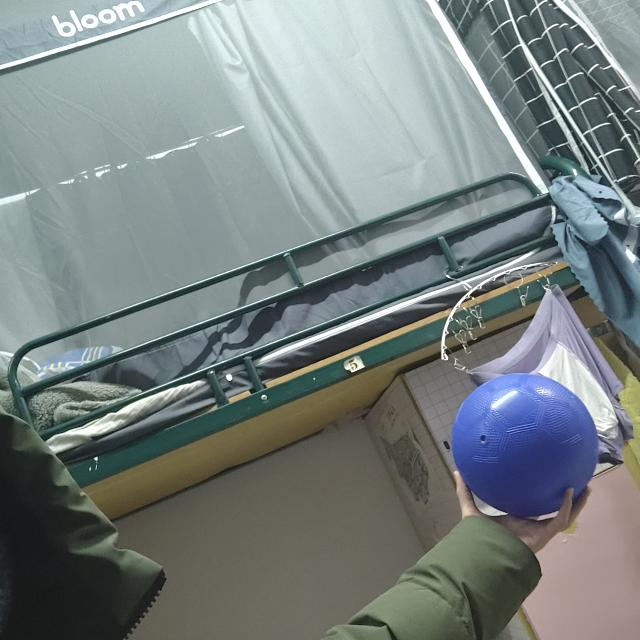B: (451, 370, 603, 520)
